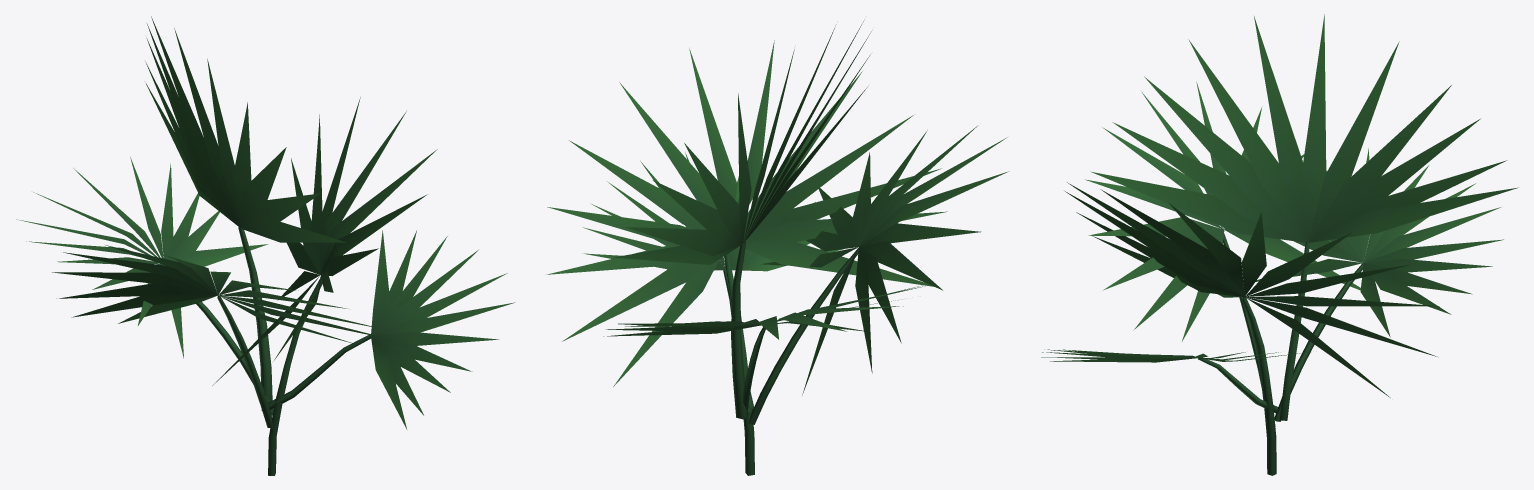
3 renders of one model, left to right at view 1: azimuth 30°, elevation 25°; view 2: azimuth 150°, elevation 25°; view 3: azimuth 270°, elevation 25°, orthographic. The views are drawn at different scales.
Parts seen in each view (by area): view 1: plant.030; view 2: plant.030; view 3: plant.030.
Boxes of the visible parts, <box> form: plant.030: <box>16,16,515,475</box>; plant.030: <box>547,19,1009,475</box>; plant.030: <box>1041,14,1518,475</box>.
Size of the model in its own units: 0.4477 by 0.4904 by 0.5.
